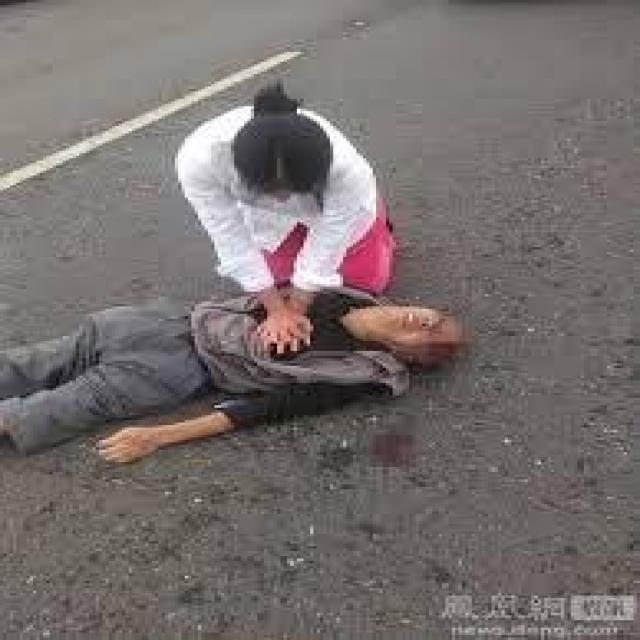fall: (0, 271, 478, 479)
nonfall: (156, 73, 403, 339)
